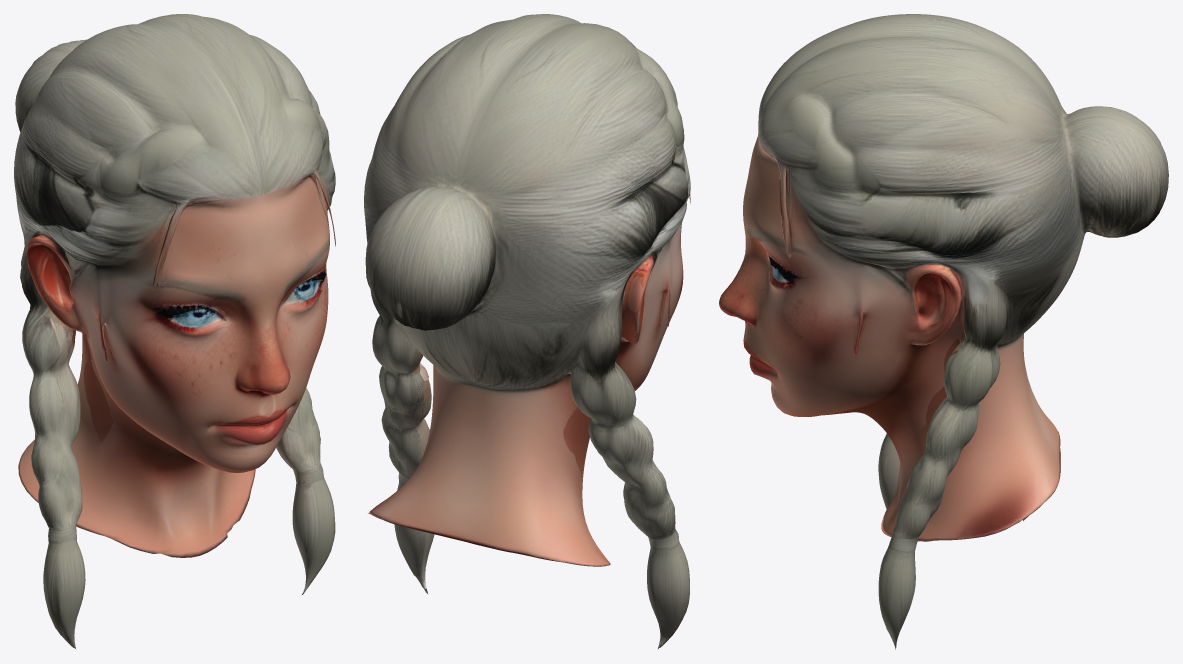
The model's file is freya.glb.
3 renders of one model, left to right at view 1: azimuth 30°, elevation 25°; view 2: azimuth 150°, elevation 25°; view 3: azimuth 270°, elevation 25°, orthographic. The views are drawn at different scales.
Visible parts, largest first — view 1: model; view 2: model; view 3: model.
Part boxes in pixels (box(x1,y1,x2,y2)): model: box(14, 14, 335, 648); model: box(364, 14, 690, 648); model: box(719, 14, 1168, 649).
Size of the model in its own units: 0.9761 by 1.89 by 1.37.
1 material, 1 textured.
